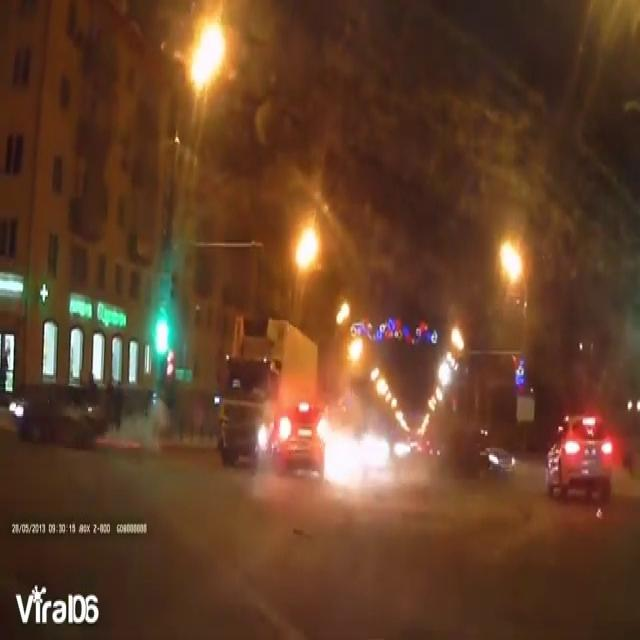moderate: (212, 300, 330, 482)
